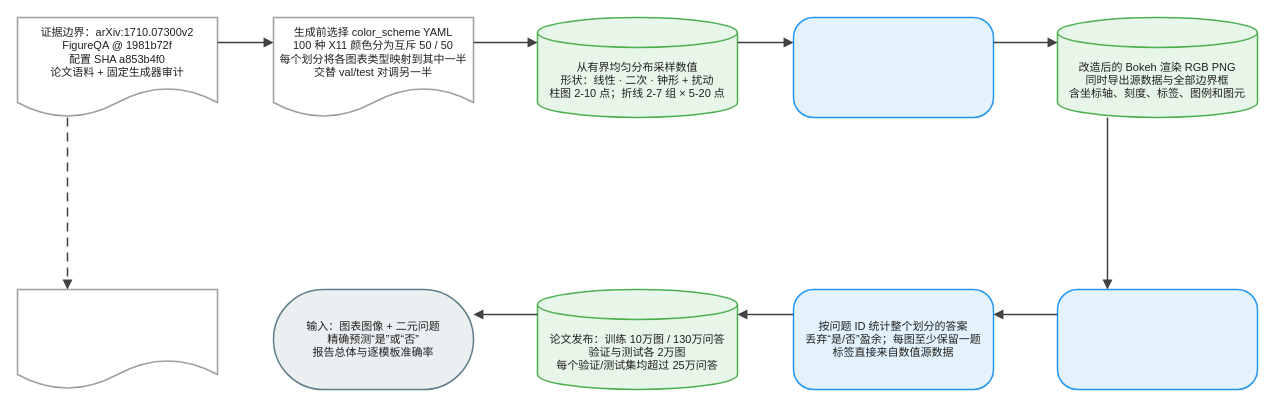
Image size: 1276x408. Some labels were removed from this diagram. Each missing label, with the box of its shape:
固定配置仅构建 train1 / val1 / val2 不含 test；公开压缩包未版本化 无规范模型提示或答案解析器: (16, 288, 218, 390)
应用 15 类二元问题模板 极值 · 中位数 · AUC · 平滑度 · 相交 可行时成对生成“是 / 否”样例: (1056, 288, 1258, 390)
渲染 5 类：垂直柱图 / 水平柱图 折线 / 点线 / 饼图 · 白色背景 随机字体、网格线、宽度与图例: (792, 16, 994, 118)
